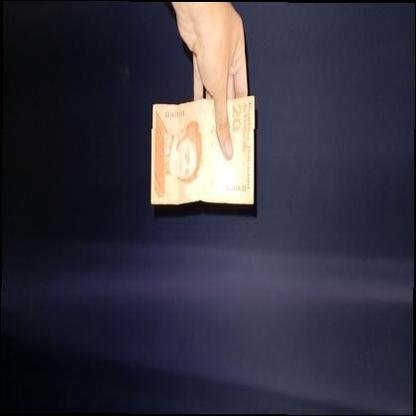twenty-front-vef: (150, 96, 254, 206)
